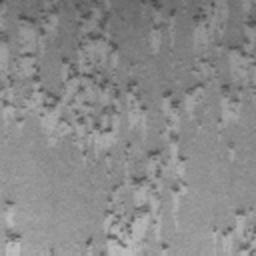Oxide scale of temperature system: (0, 0, 147, 163), (102, 56, 219, 255), (216, 14, 256, 129), (221, 209, 256, 256), (192, 0, 229, 42), (148, 0, 175, 55), (4, 200, 20, 256), (84, 237, 92, 247)
